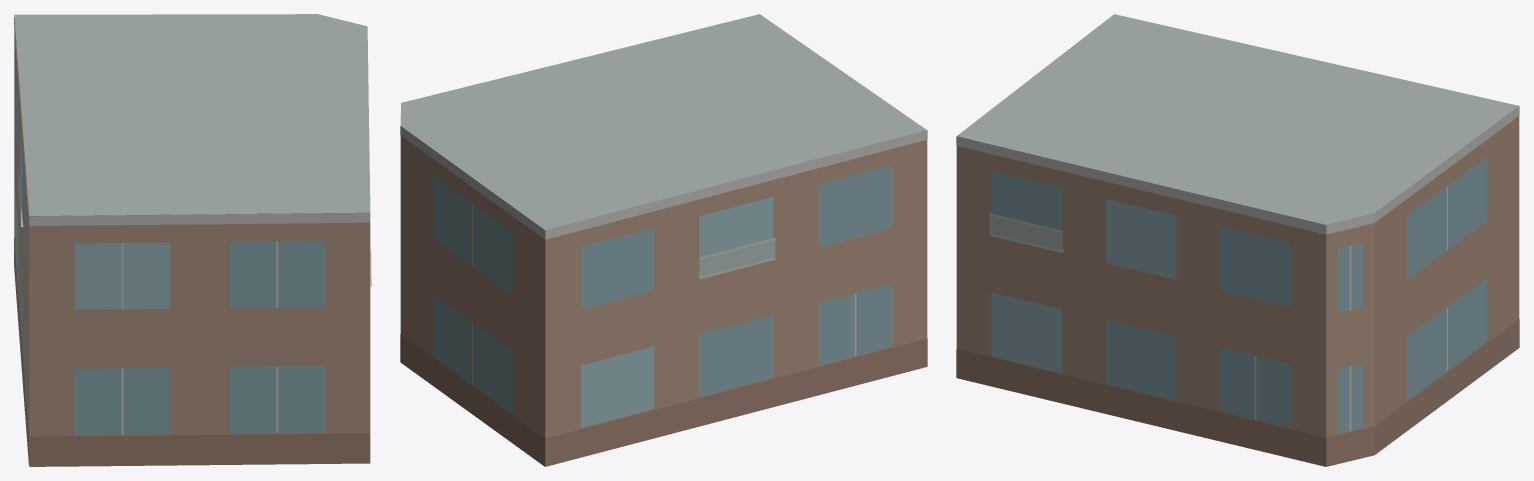
File: survey-upis-32654953.glb
The picture shows the model from 3 angles, left to right: view 1: azimuth 30°, elevation 25°; view 2: azimuth 150°, elevation 25°; view 3: azimuth 270°, elevation 25°; orthographic projection. The views are drawn at different scales.
Parts seen in each view (by area): view 1: survey-upis-32654953.tmp; view 2: survey-upis-32654953.tmp; view 3: survey-upis-32654953.tmp.
Part boxes in pixels (x1,y1,x2,y2): survey-upis-32654953.tmp: (14,14,371,466); survey-upis-32654953.tmp: (400,14,927,466); survey-upis-32654953.tmp: (956,14,1519,466).
Size of the model in its own units: 11.42 by 6.1 by 12.88.
